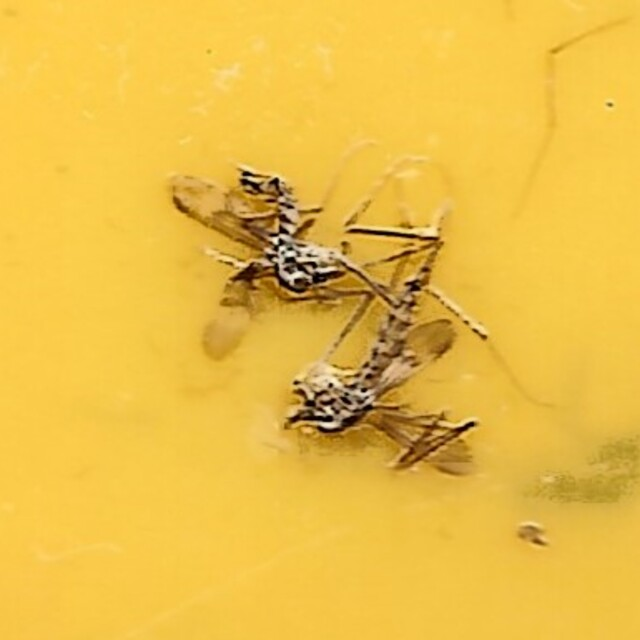Nematocera: (288, 265, 474, 484), (166, 156, 351, 357)
